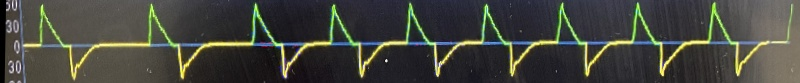normal_flow: (16, 0, 775, 83)
